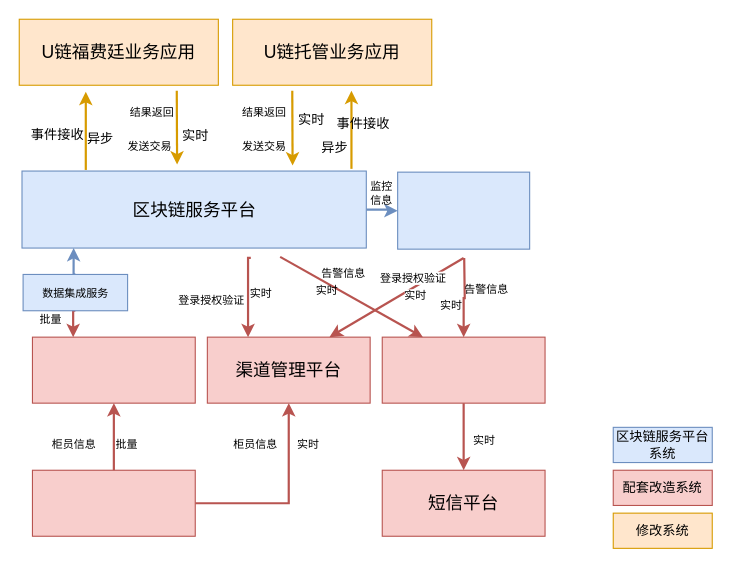
Image size: 732x568. Some labels were removed from this diagram. Each missing label, with the centre of its shape:
"企业数据总线" goes at (113,369).
"企业服务总线" goes at (463,369).
"柜员管理系统" goes at (113,502).
"监控平台" goes at (463,210).
